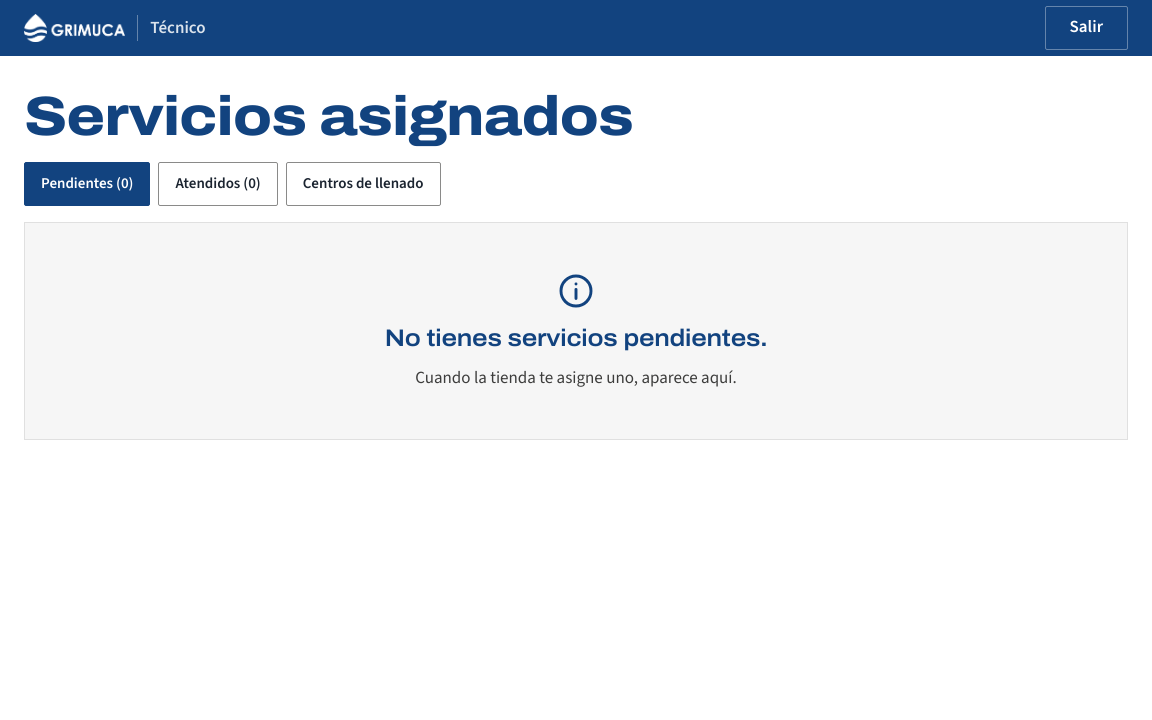
Scenario: /tecnico · centros de llenado › no publica una medición sin casillas
The width and height of the screenshot is (1152, 720).
Click the button "Centros de llenado": (363, 184) top-left (286, 162), bottom-right (440, 206)
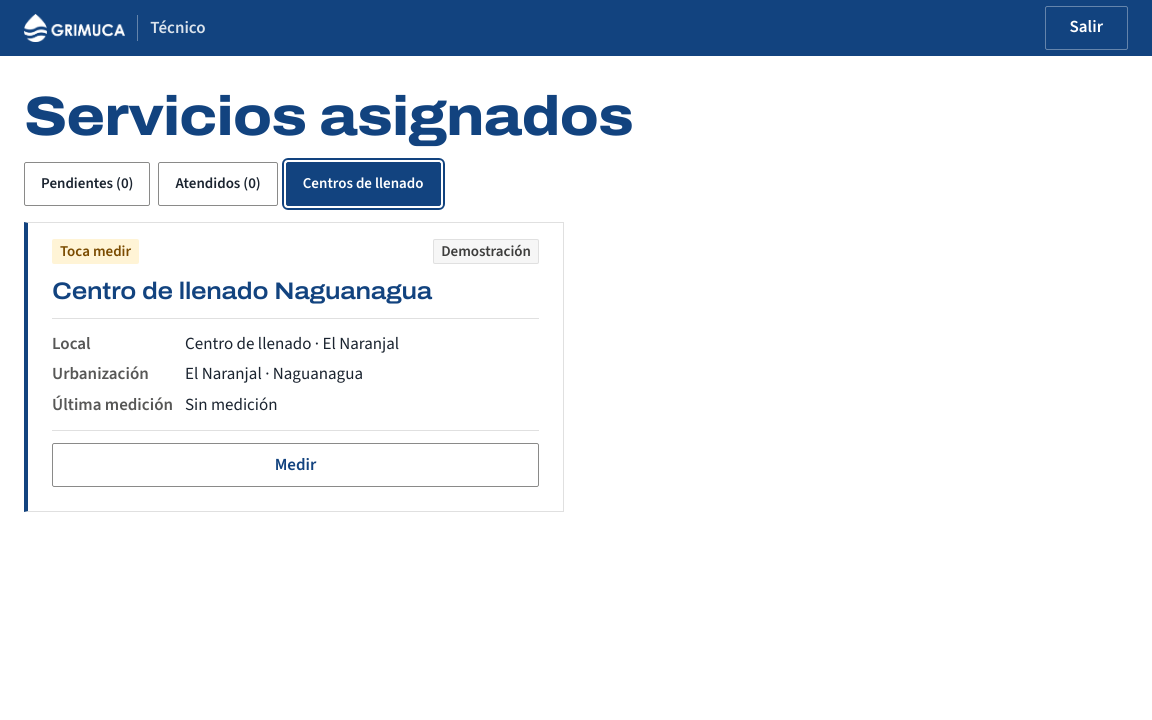
Click the button "Medir": (296, 465) top-left (52, 443), bottom-right (539, 487)
(page scrolled)
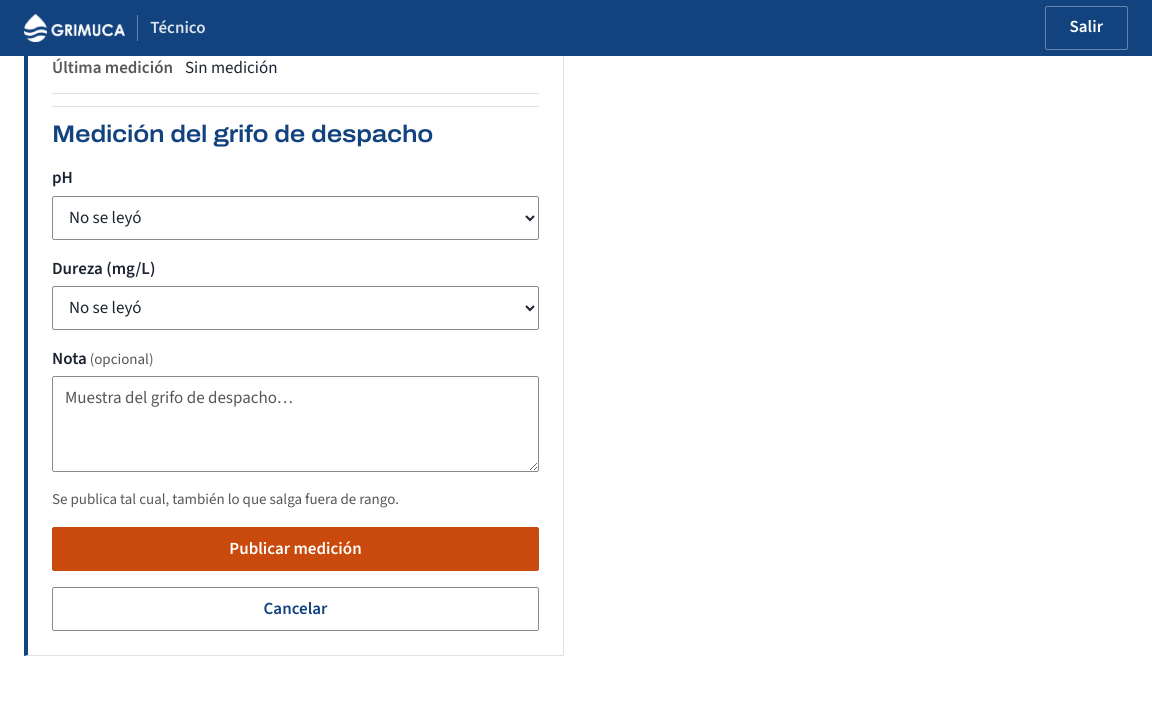
Click the button "Publicar medición": (296, 549) top-left (52, 527), bottom-right (539, 571)
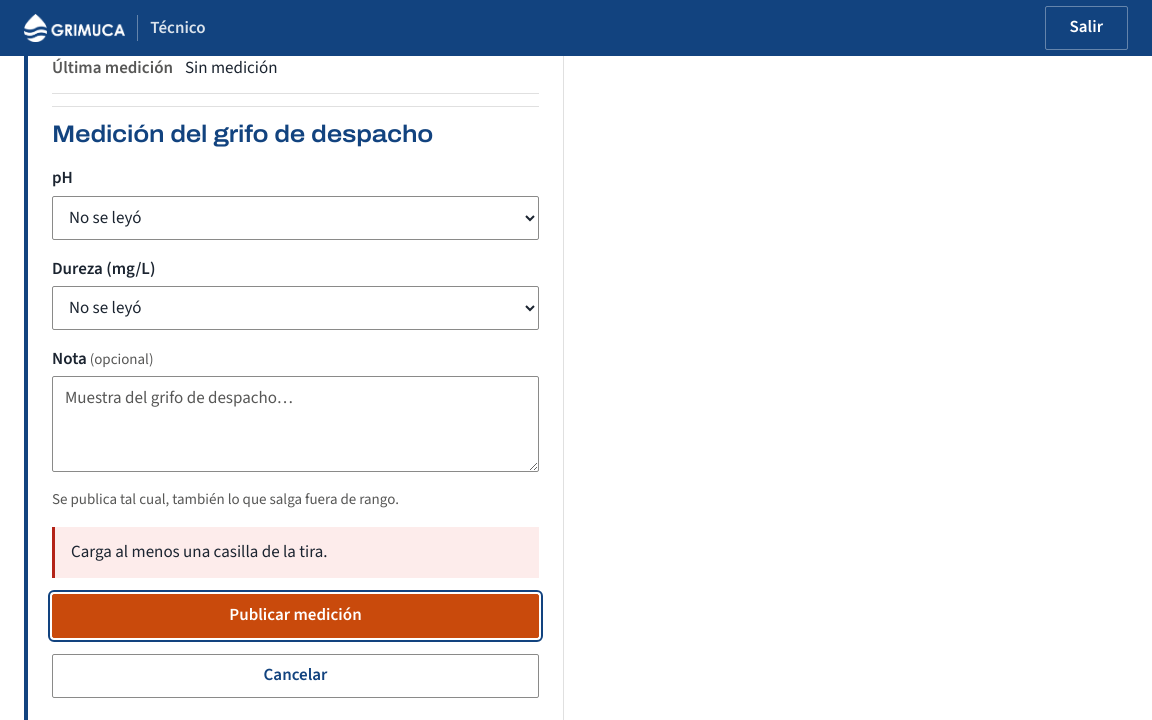
Expected: the text "Carga al menos una casilla de la tira." is shown, top-left (71, 540), bottom-right (328, 564)
